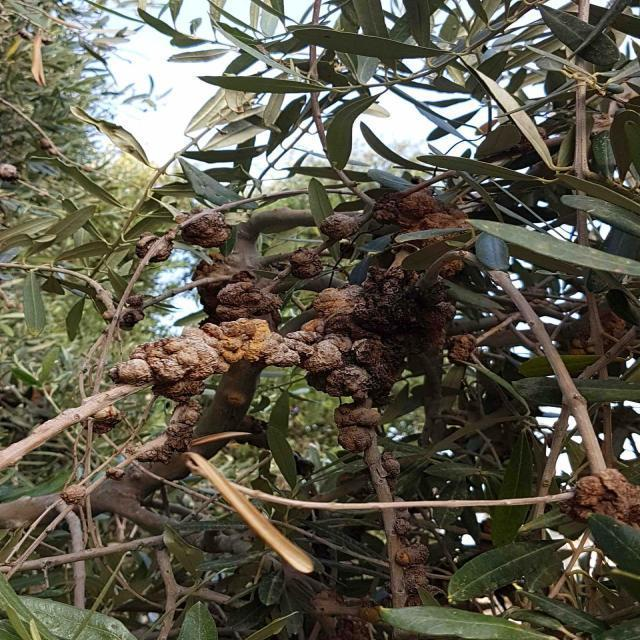Tuberculosis: (299, 268, 454, 406), (110, 319, 343, 401), (562, 468, 640, 529), (130, 399, 200, 464), (376, 189, 470, 235), (215, 282, 280, 326), (334, 400, 385, 452), (395, 542, 440, 596), (178, 208, 231, 249), (318, 213, 370, 242), (136, 232, 172, 264), (88, 405, 125, 436), (290, 248, 322, 280), (448, 334, 478, 364), (382, 451, 402, 492), (390, 508, 414, 540), (60, 482, 86, 508), (106, 470, 125, 480)
